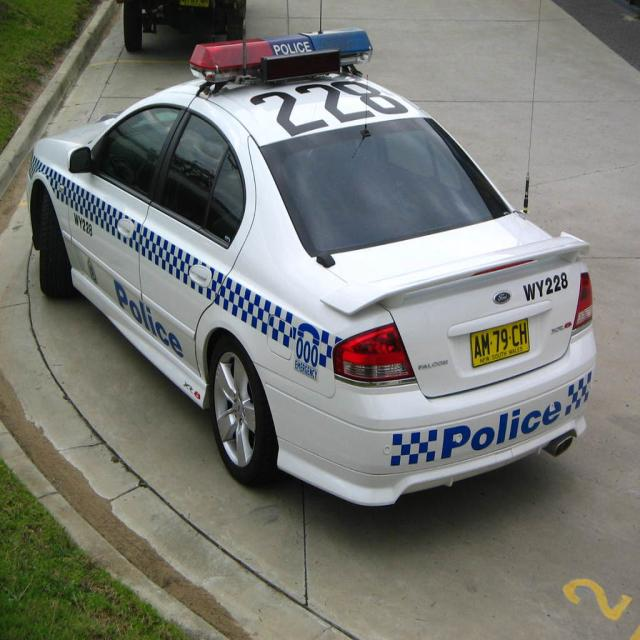car: (14, 48, 613, 507)
